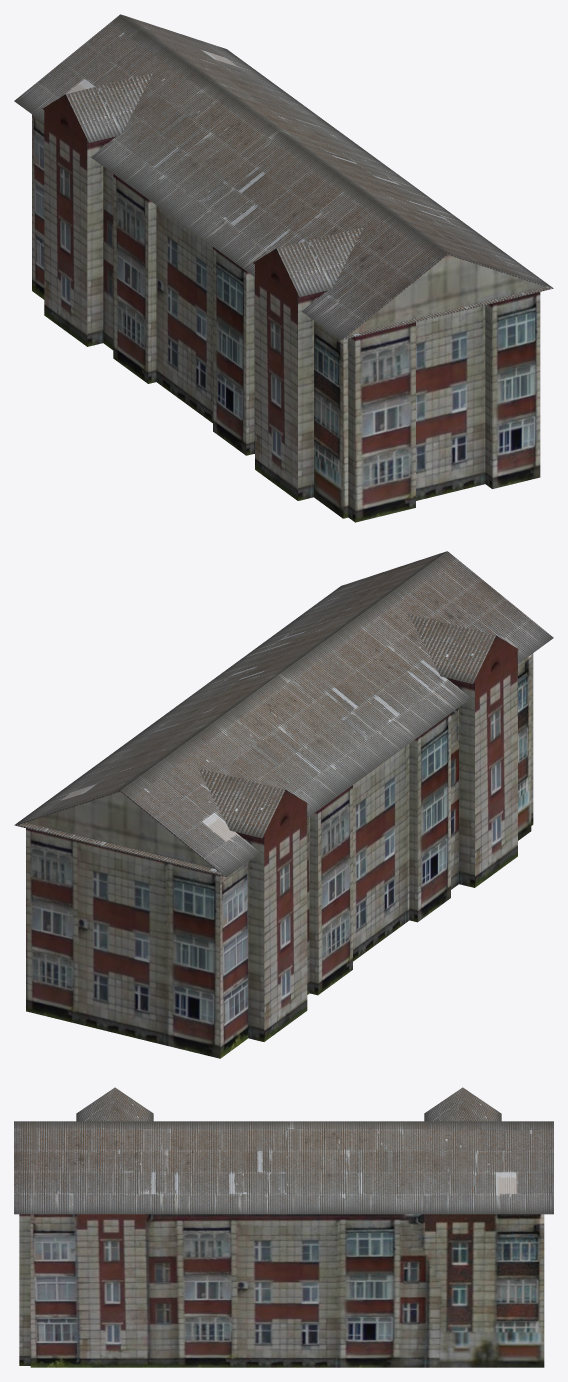
The model's file is r402_ishim_mnogoetazhka.FBX.
The picture shows the model from 3 angles, top to bottom: view 1: azimuth 30°, elevation 25°; view 2: azimuth 150°, elevation 25°; view 3: azimuth 270°, elevation 25°; orthographic projection. The views are drawn at different scales.
Parts seen in each view (by area): view 1: r402_ishim_mnogoetazhka; view 2: r402_ishim_mnogoetazhka; view 3: r402_ishim_mnogoetazhka.
Part boxes in pixels (x1=…): r402_ishim_mnogoetazhka: x1=14, y1=14, x2=553, y2=522; r402_ishim_mnogoetazhka: x1=14, y1=551, x2=553, y2=1058; r402_ishim_mnogoetazhka: x1=14, y1=1087, x2=553, y2=1367.
Size of the model in its own units: 1113 by 2913 by 1226.
